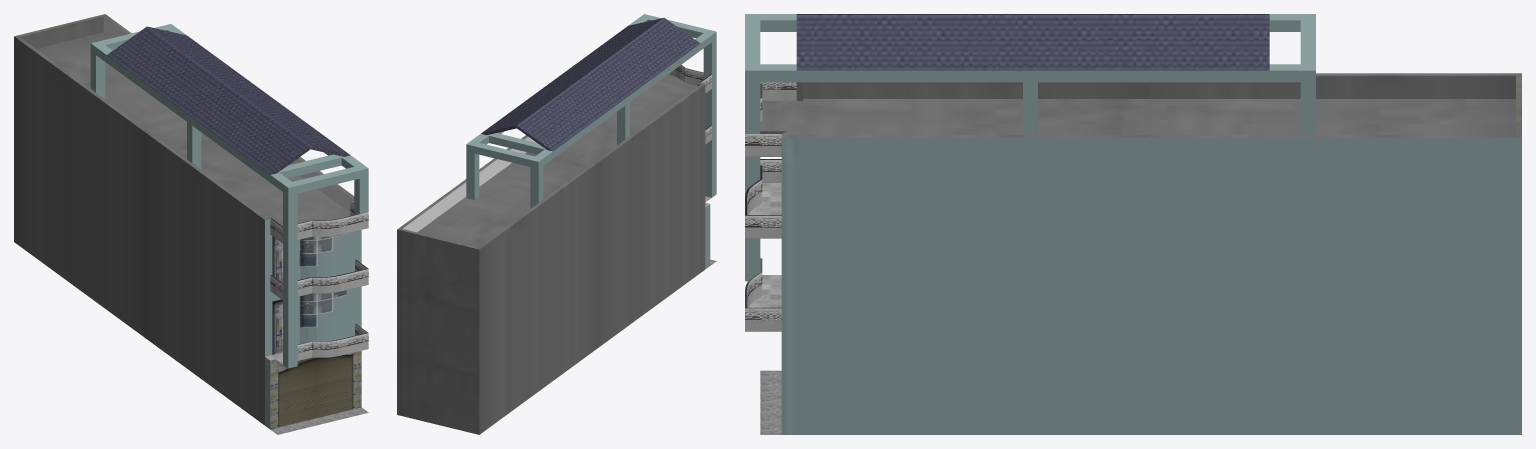
3 renders of one model, left to right at view 1: azimuth 30°, elevation 25°; view 2: azimuth 150°, elevation 25°; view 3: azimuth 270°, elevation 25°, orthographic. The views are drawn at different scales.
Visible parts, largest first — view 1: 5d511e1dd0d5581a50c68460.001; view 2: 5d511e1dd0d5581a50c68460.001; view 3: 5d511e1dd0d5581a50c68460.001.
Part boxes in pixels (x1,y1,x2,y2): 5d511e1dd0d5581a50c68460.001: (14,14,368,434); 5d511e1dd0d5581a50c68460.001: (397,14,716,434); 5d511e1dd0d5581a50c68460.001: (745,14,1521,434).
Size of the model in its own units: 5 by 14.04 by 25.5.
Materials: 1 (1 with a texture image).
